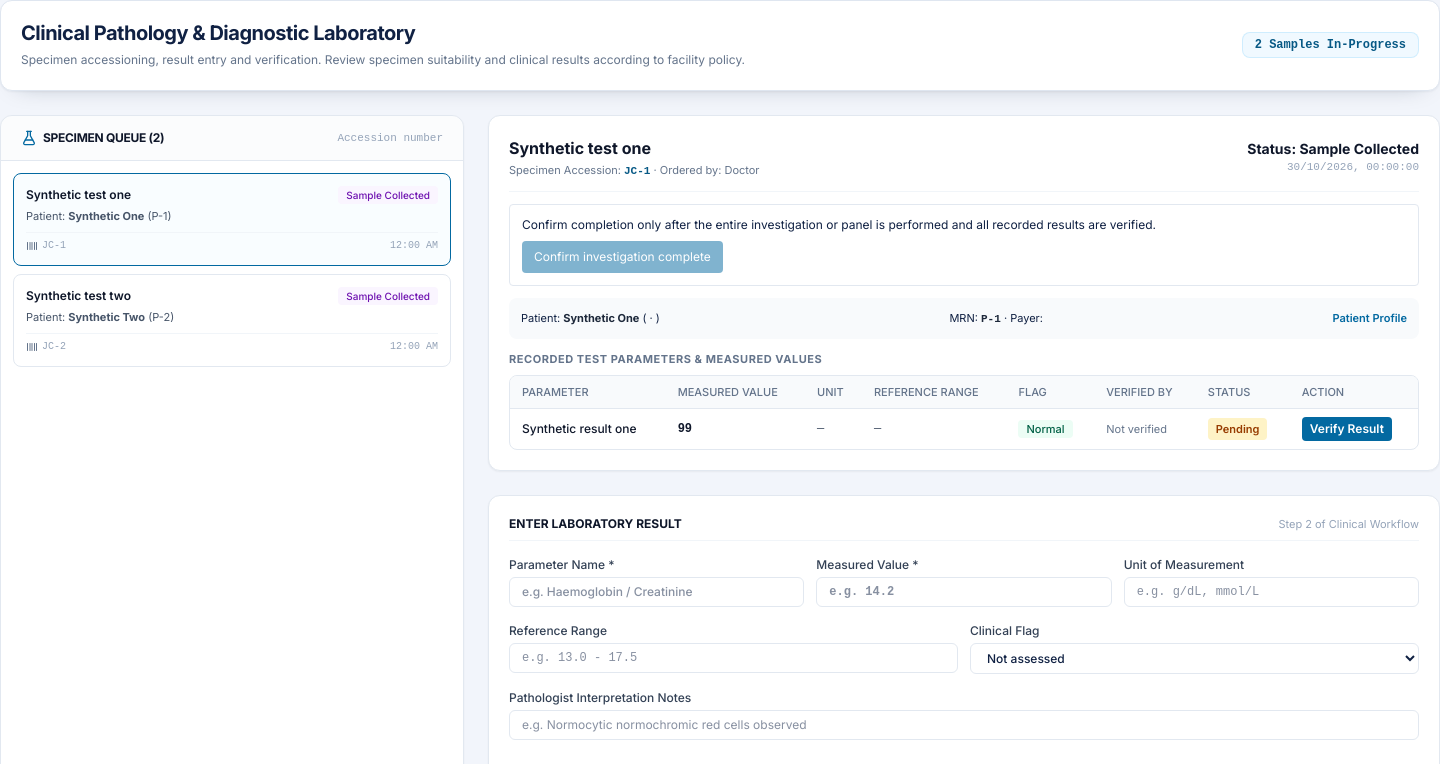
Test: Laboratory worklist and result isolation › clears the old result and draft when selecting a different order
This screenshot has width=1440, height=764.
Check: the text "Synthetic result one" is shown, box [510,408,666,448]
Type "old draft" into the field with placeholder "e.g. Haemoglobin / Creatinine" at (657, 592), box [509,576,804,606]
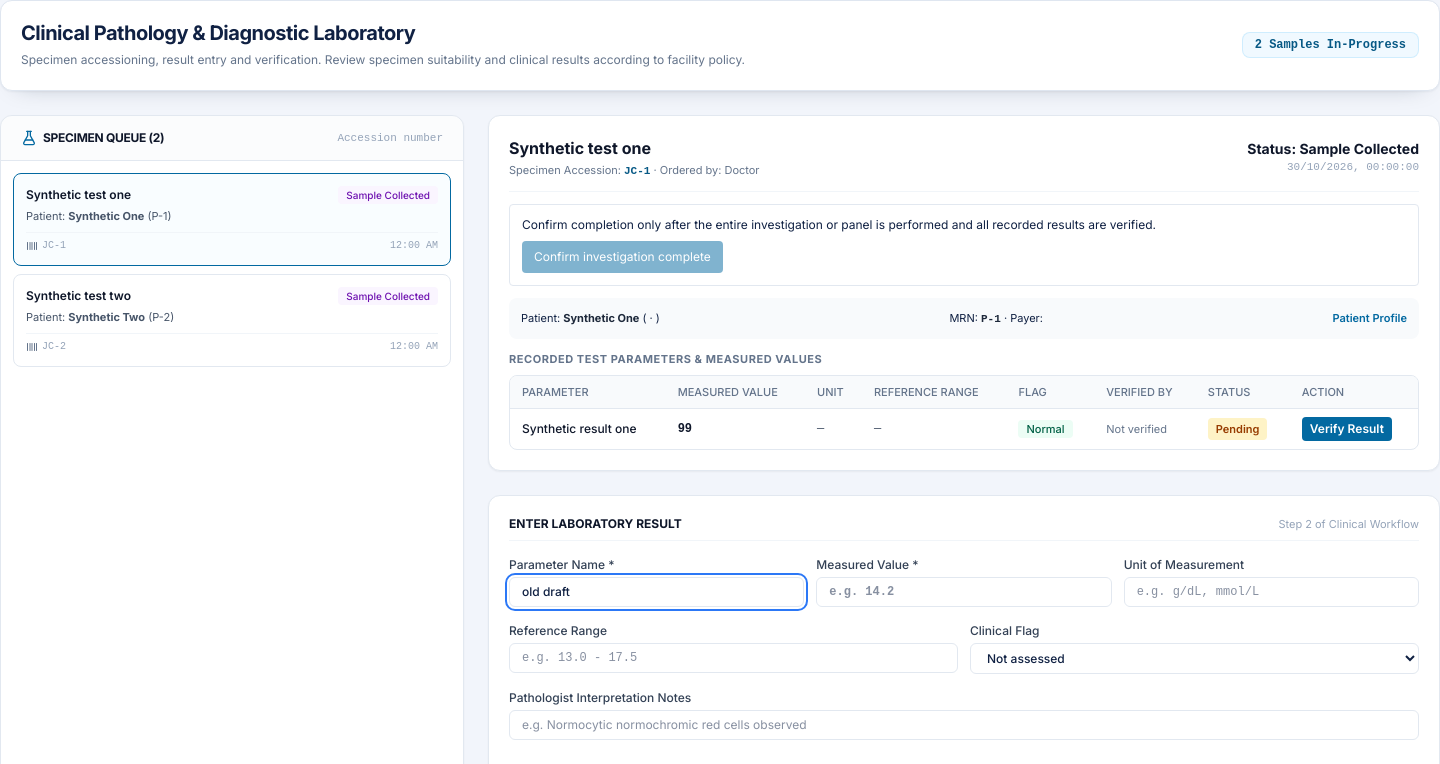
Click the text "Synthetic test two" at (78, 296), box [26,288,131,304]
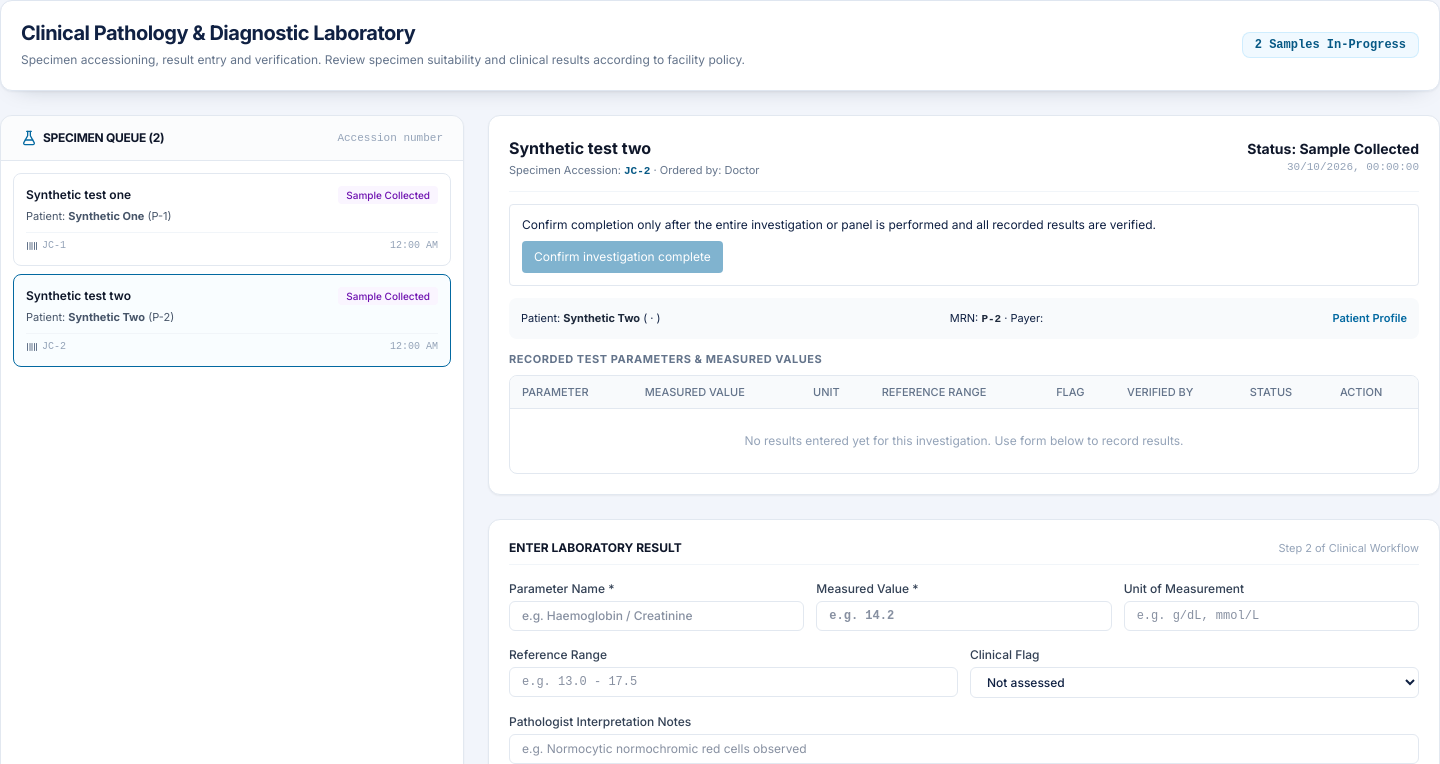
Check: the text "Synthetic result one" is gone
Check: the field with placeholder "e.g. Haemoglobin / Creatinine" is empty, box [509,600,804,630]
